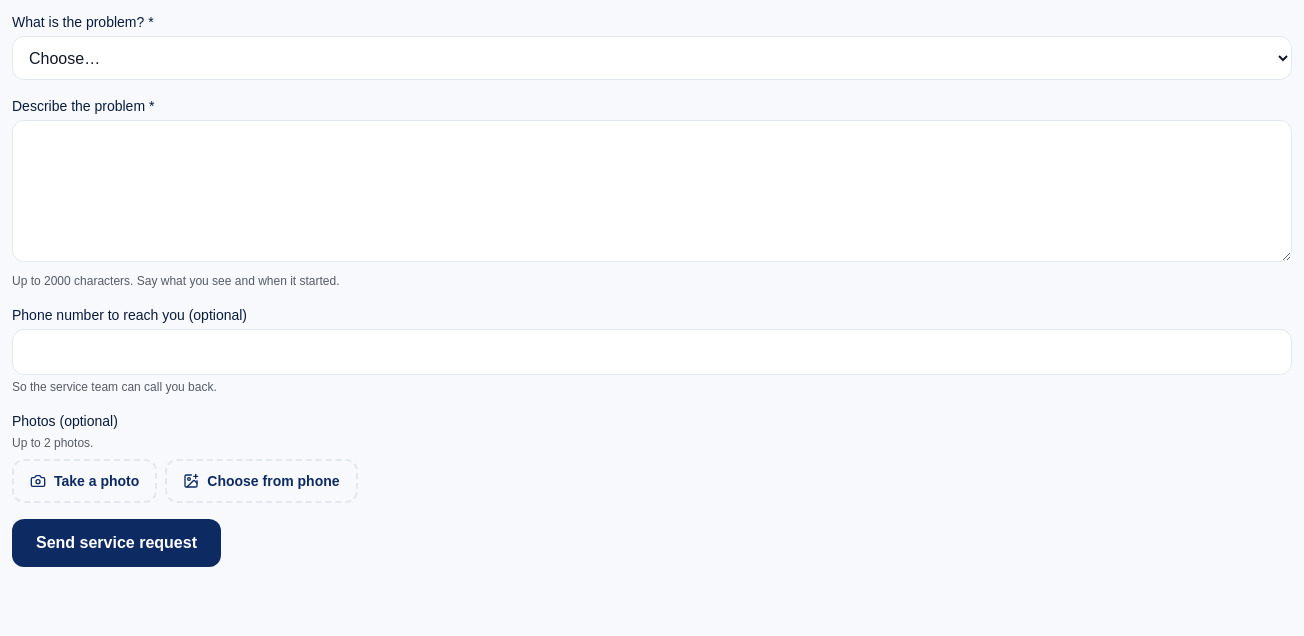
Test case: ServiceRequestForm — fields and errors › shows the transport’s error in an alert and keeps what was typed
The width and height of the screenshot is (1304, 636).
Select "Something else" in the dropdown labelled "What is the problem? *" at (652, 58), box [12,36,1292,80]
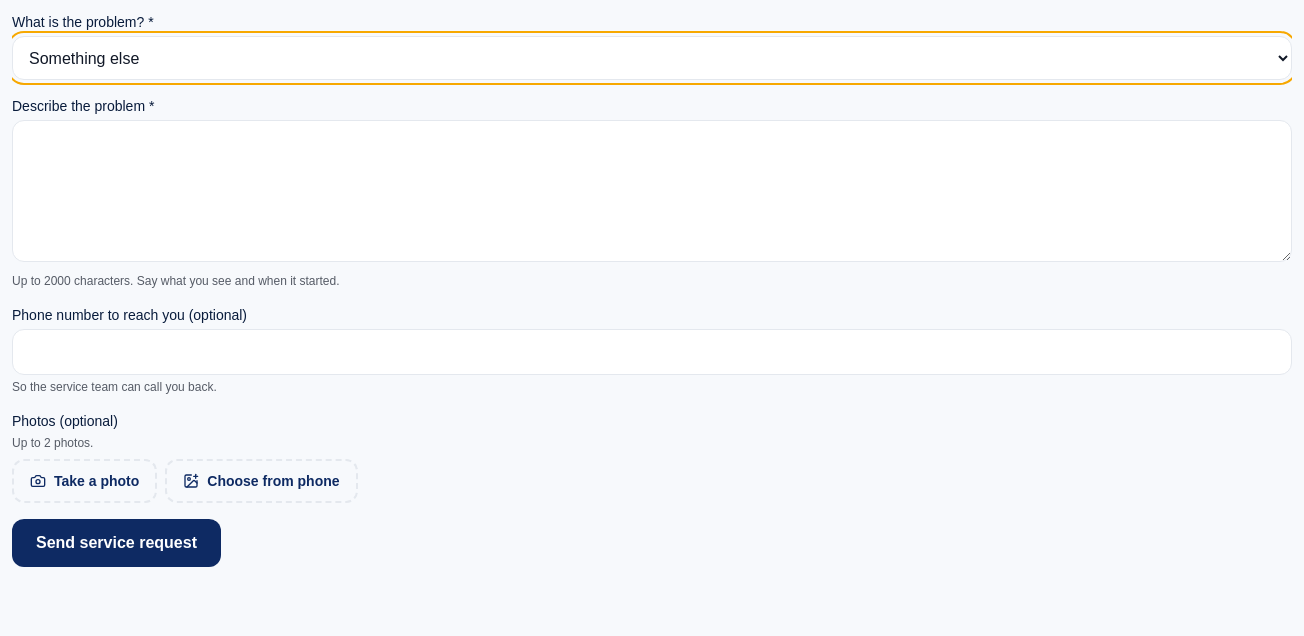
Type "text" into the text box labelled "Describe the problem *" at (652, 191), box [12,120,1292,262]
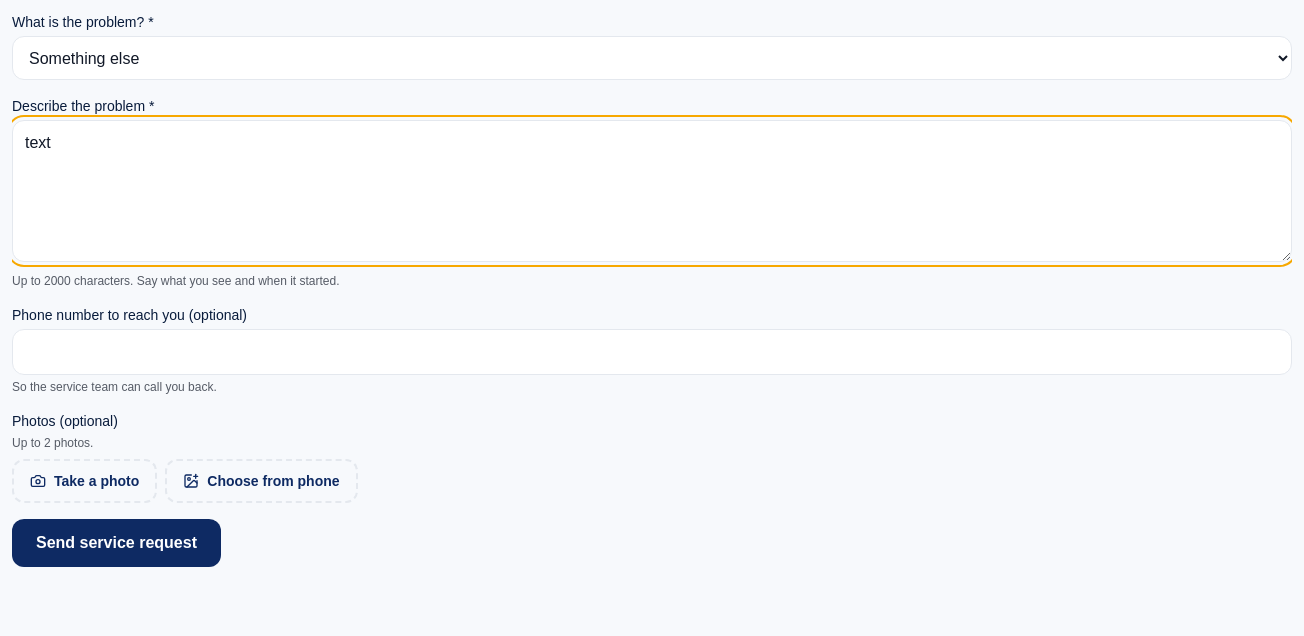
Click the button "Send service request" at (116, 543), box [12,519,221,567]
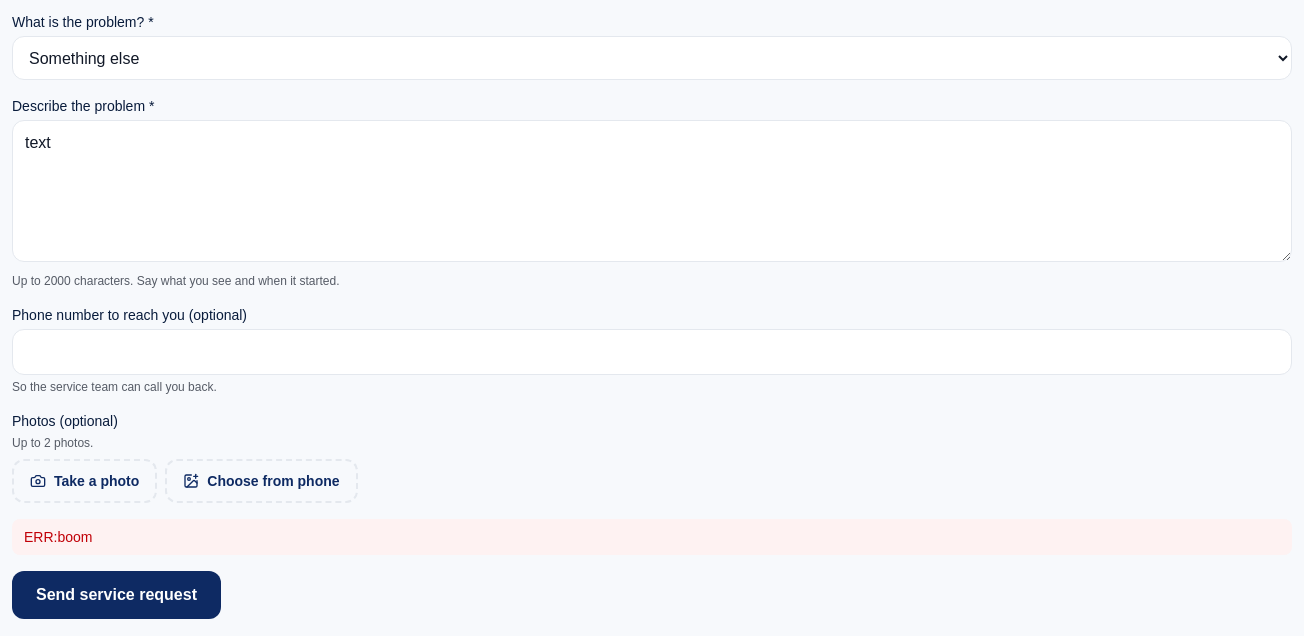
Now the text "ERR:boom" is shown, box [12,519,1292,555]
